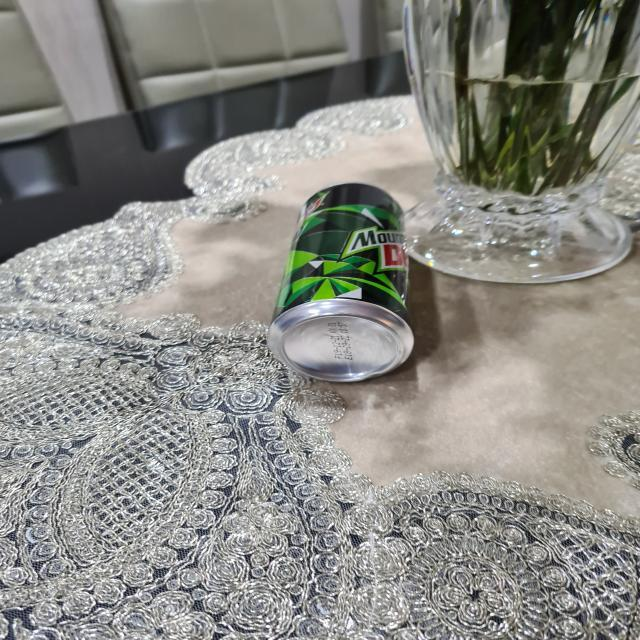can: (264, 178, 422, 391)
